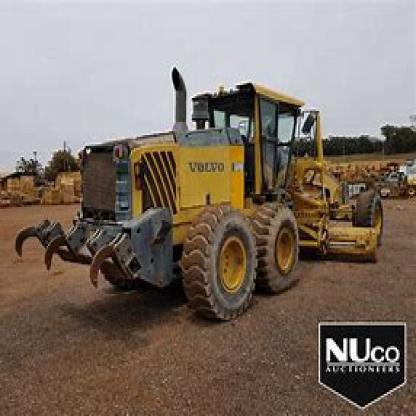bull_dozer/loader/grader: (16, 63, 406, 320)
